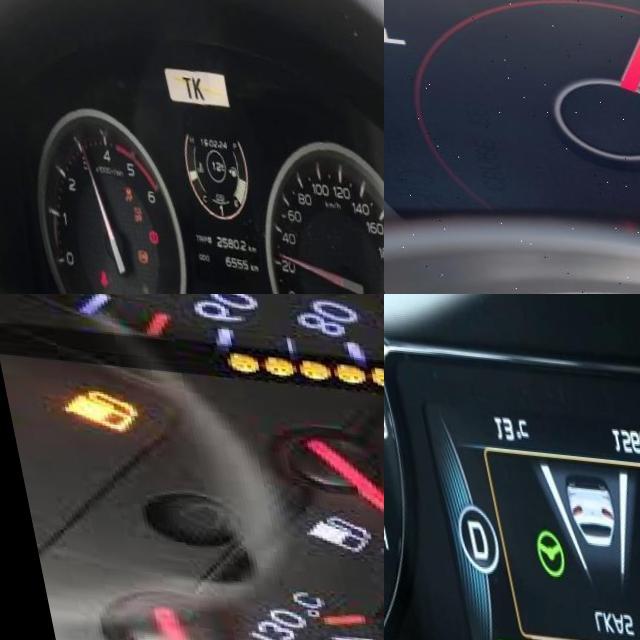Seat Belt: (82, 264, 95, 284)
